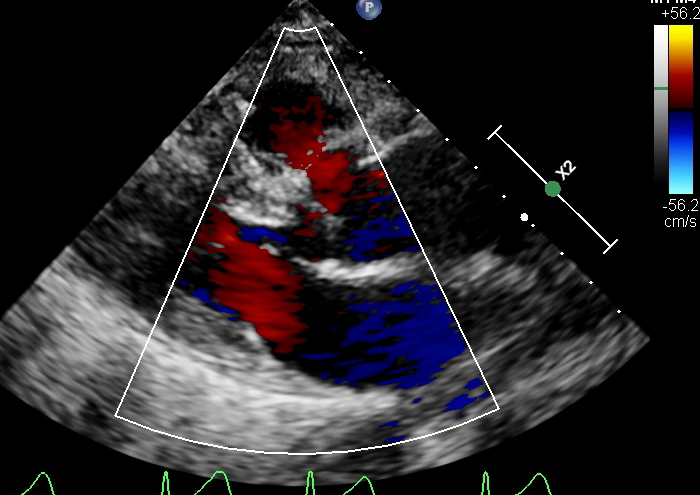AR: (210, 213, 310, 310)
